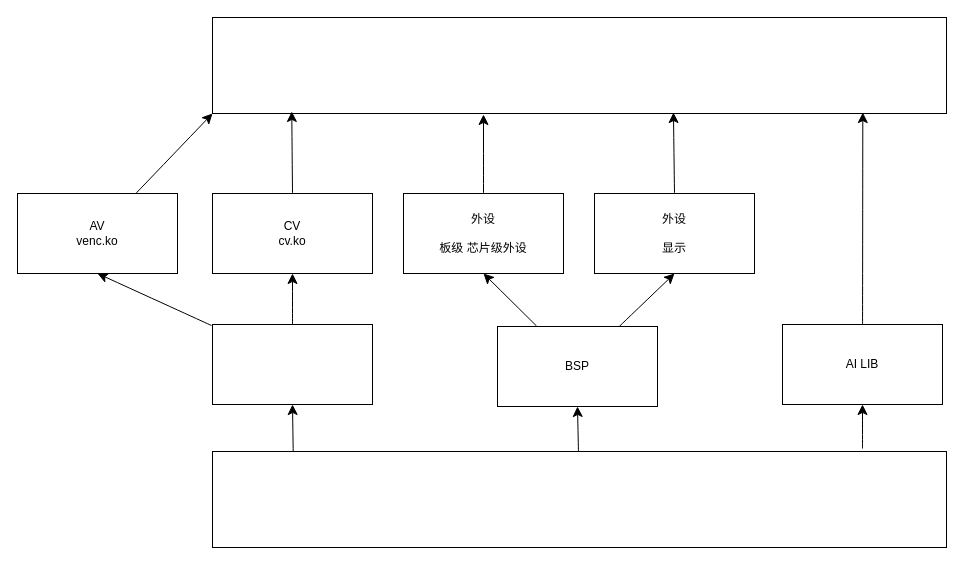
This 964x565 diagram has some shape labels left out. Here are the shapes that lost their labels. From the top down, the centre of each, then its label:
At [579,65]: "应用层 多媒体应用、demo pipeline demo AI-box demo".
At [292,364]: "MM LIB".
At [579,499]: "系统层（OS&HAL）".
